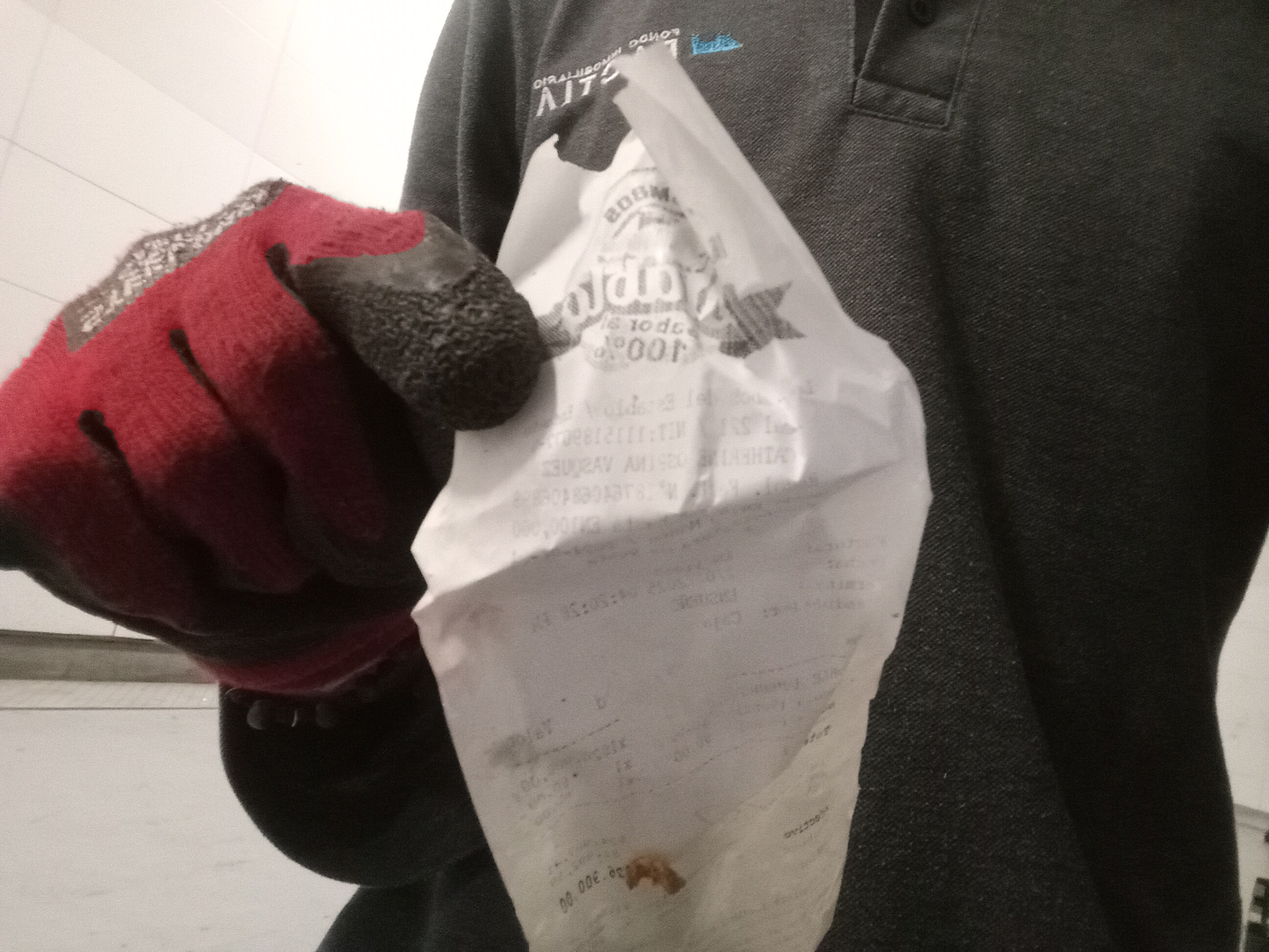Papel: (408, 39, 934, 952)
